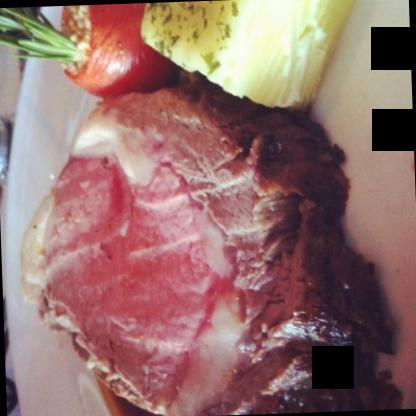beef: (8, 76, 401, 415)
